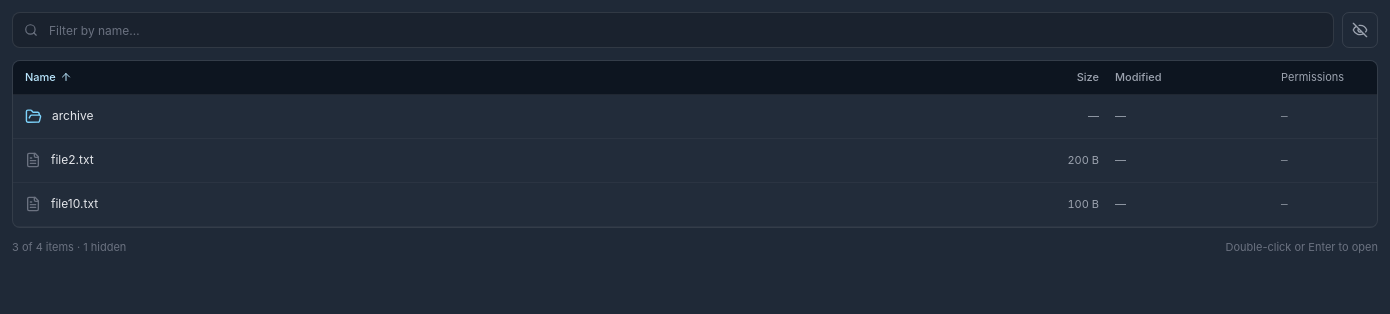
Test: File listing interactions › sorts names naturally, keeps folders first in both directions and reveals dotfiles
Later steps or results of the test are not shown.
Click the button with aria-label "Sort remote files by size" at (1088, 77), box [1077, 61, 1099, 94]
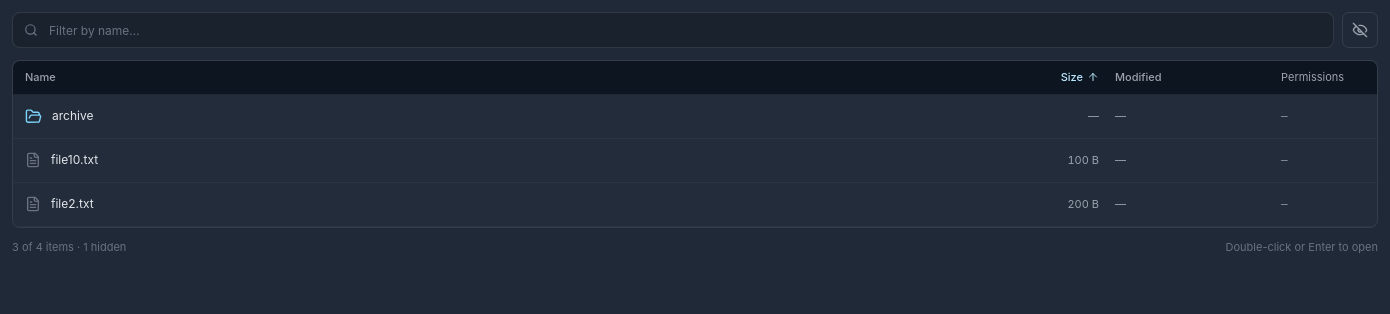
Click the button with aria-label "Sort remote files by size" at (1080, 77), box [1061, 61, 1099, 94]
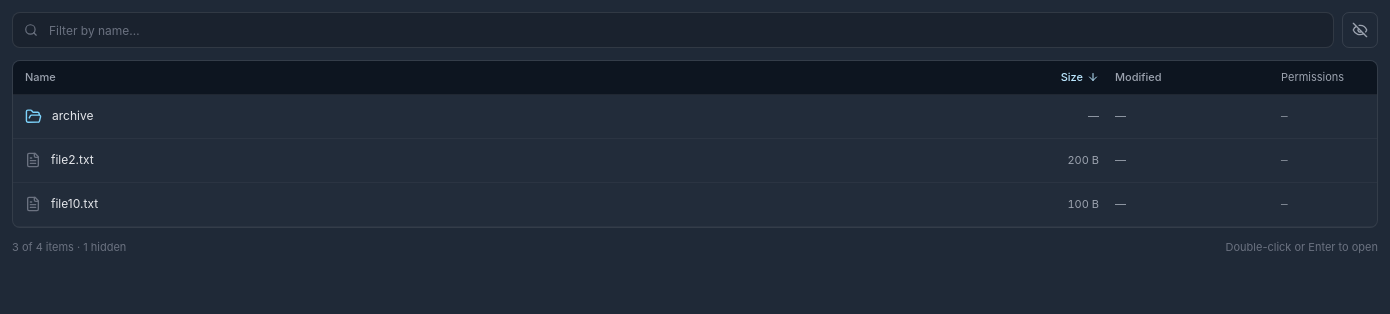
Click the button named "Show hidden remote files" at (1360, 30), box [1342, 12, 1378, 48]
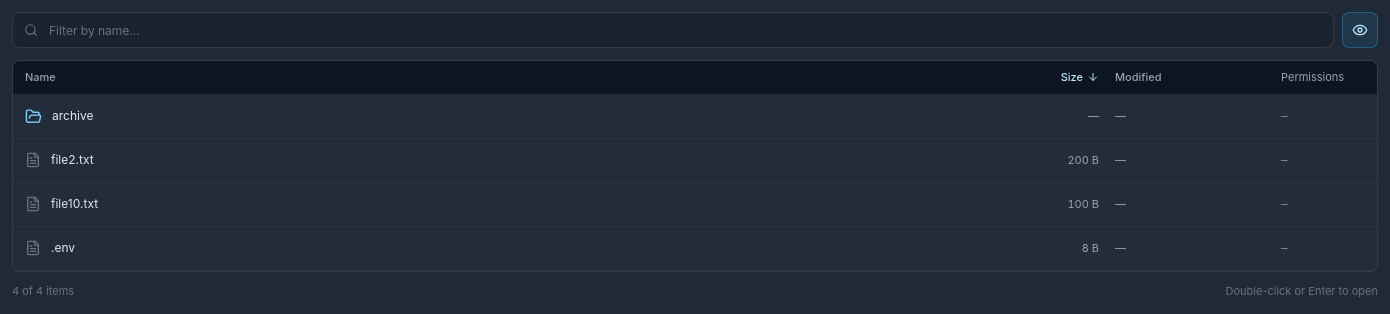
Expected: the text ".env" is shown, [51, 240, 75, 256]
